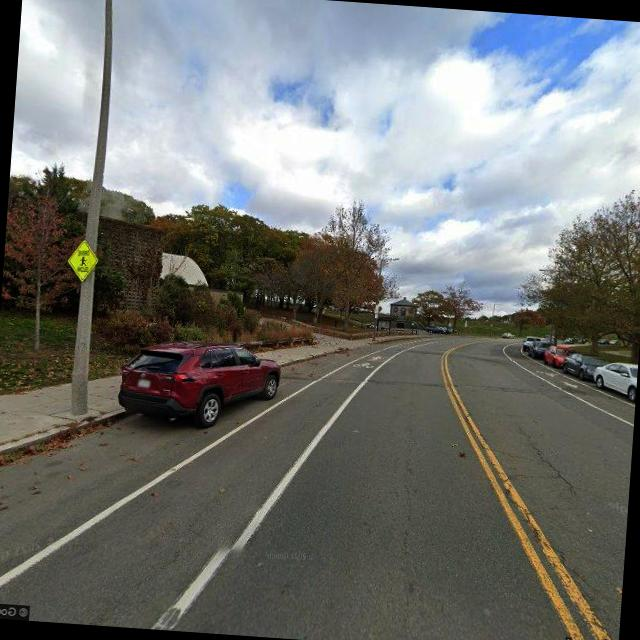pothole: (510, 420, 584, 494)
